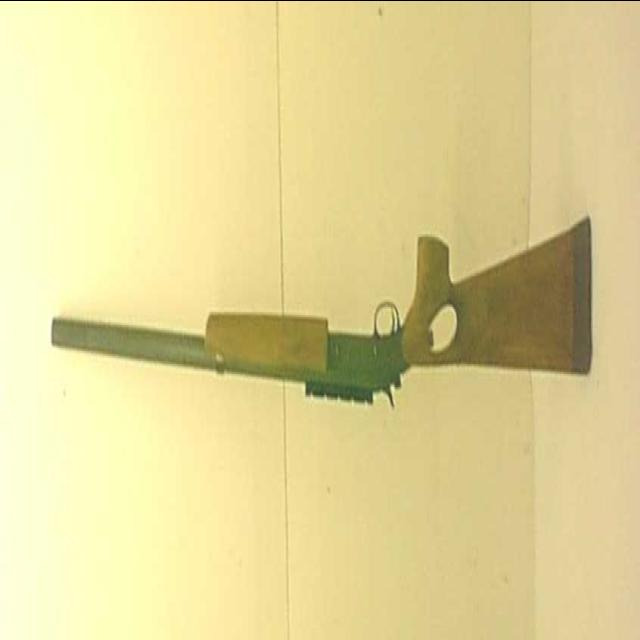heavyweapon: (39, 141, 611, 457)
